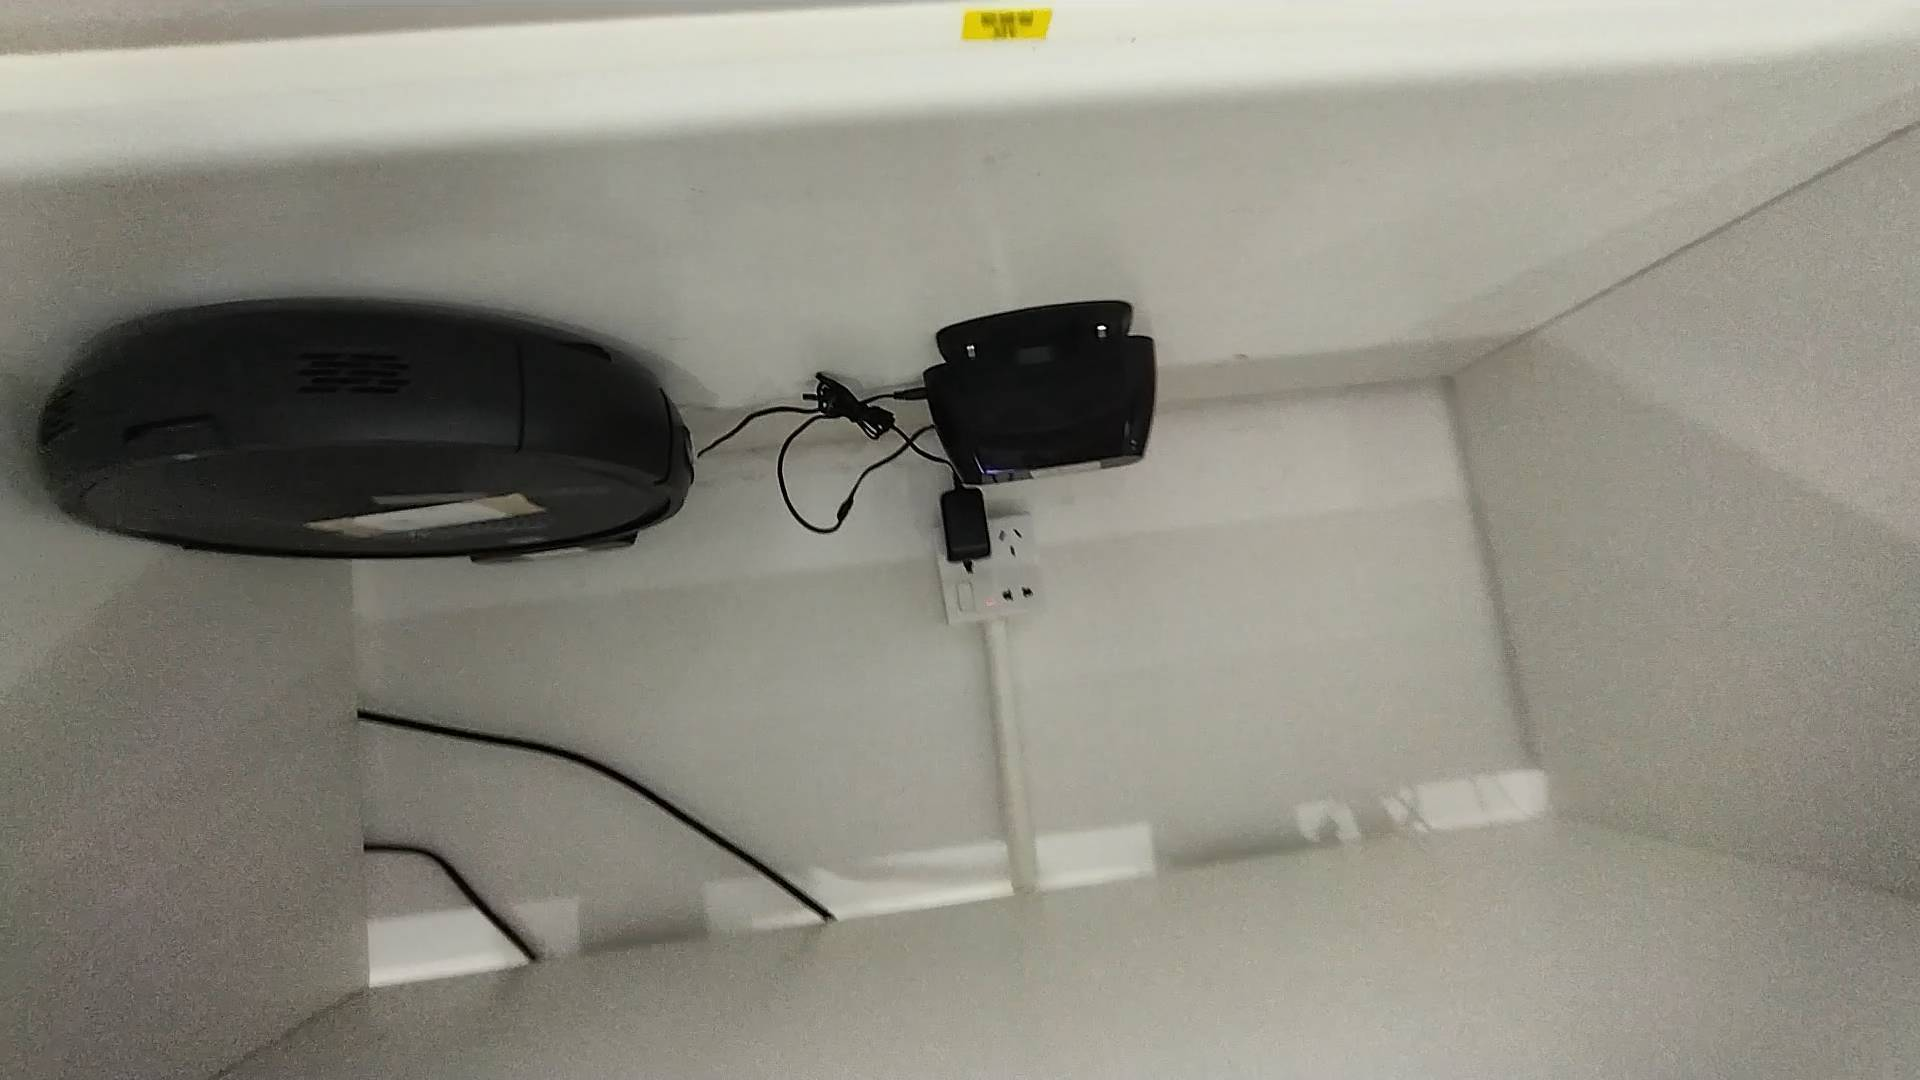recharge seat: (924, 299, 1160, 489)
